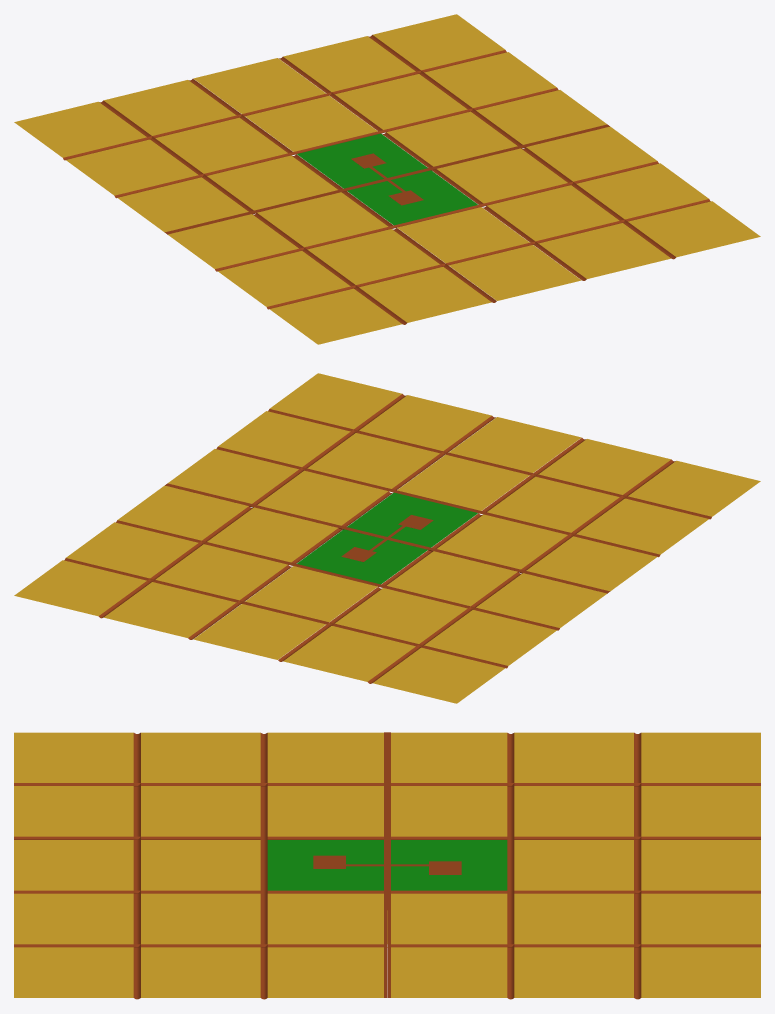
Rendered from Map_01.fbx.
The picture shows the model from 3 angles, top to bottom: view 1: azimuth 30°, elevation 25°; view 2: azimuth 150°, elevation 25°; view 3: azimuth 270°, elevation 25°; orthographic projection. The views are drawn at different scales.
Parts seen in each view (by area): view 1: Cube.150, Cube.155, Plane.052, Plane.041, Plane.027, Plane.010, Plane.040, Plane.009, Plane.008, Plane.036, Plane.035, Plane.028 (+22 smaller); view 2: Cube.155, Cube.150, Plane.051, Plane.009, Plane.035, Plane.011, Plane.043, Plane.041, Plane.015, Plane.032, Plane.027, Plane.025 (+22 smaller); view 3: Cube.155, Cube.150, Plane.051, Plane.040, Plane.032, Plane.010, Plane.052, Plane.050, Plane.043, Plane.041, Plane.019, Plane.015 (+24 smaller).
Boxes of the visible parts, <box> form: Cube.150: <box>215,147,710,324</box>; Cube.155: <box>63,35,558,211</box>; Plane.052: <box>155,117,287,173</box>; Plane.041: <box>373,14,505,70</box>; Plane.027: <box>269,288,401,344</box>; Plane.010: <box>487,185,619,241</box>; Plane.040: <box>283,36,415,91</box>; Plane.009: <box>14,101,146,157</box>; Plane.008: <box>66,139,198,195</box>; Plane.036: <box>576,163,708,219</box>; Plane.035: <box>628,201,760,257</box>; Plane.028: <box>359,267,491,322</box>; Cube.155: <box>64,506,559,683</box>; Cube.150: <box>216,394,711,570</box>; Plane.051: <box>155,544,287,600</box>; Plane.009: <box>373,647,505,703</box>; Plane.035: <box>269,373,401,429</box>; Plane.011: <box>487,476,619,532</box>; Plane.043: <box>66,522,198,578</box>; Plane.041: <box>14,560,146,616</box>; Plane.015: <box>283,626,415,681</box>; Plane.032: <box>359,395,491,450</box>; Plane.027: <box>628,460,760,516</box>; Plane.025: <box>576,498,708,554</box>; Cube.155: <box>391,732,760,999</box>; Cube.150: <box>14,732,383,999</box>; Plane.051: <box>514,893,633,944</box>; Plane.040: <box>641,893,760,944</box>; Plane.032: <box>14,893,133,944</box>; Plane.010: <box>141,893,260,944</box>; Plane.052: <box>514,786,633,836</box>; Plane.050: <box>514,840,633,890</box>; Plane.043: <box>514,947,633,997</box>; Plane.041: <box>641,947,760,997</box>; Plane.019: <box>641,840,760,890</box>; Plane.015: <box>641,786,760,836</box>.
Bounding box in the file's own units: 26233 × 73.22 × 31200.
